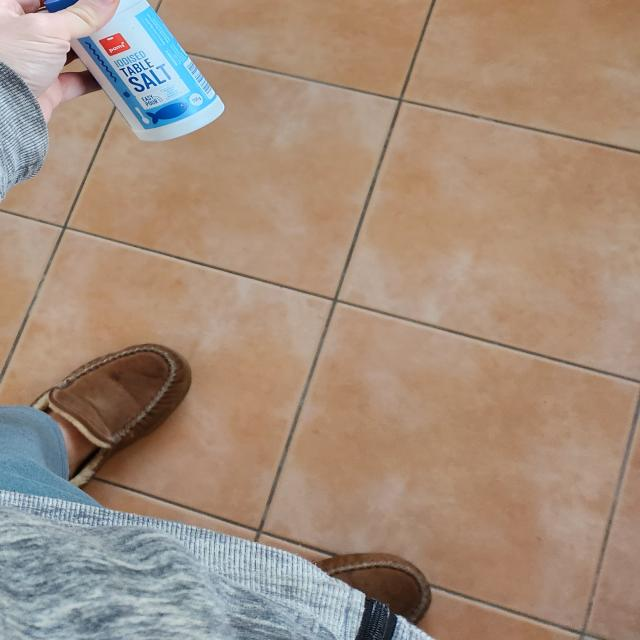salt: (45, 0, 228, 144)
